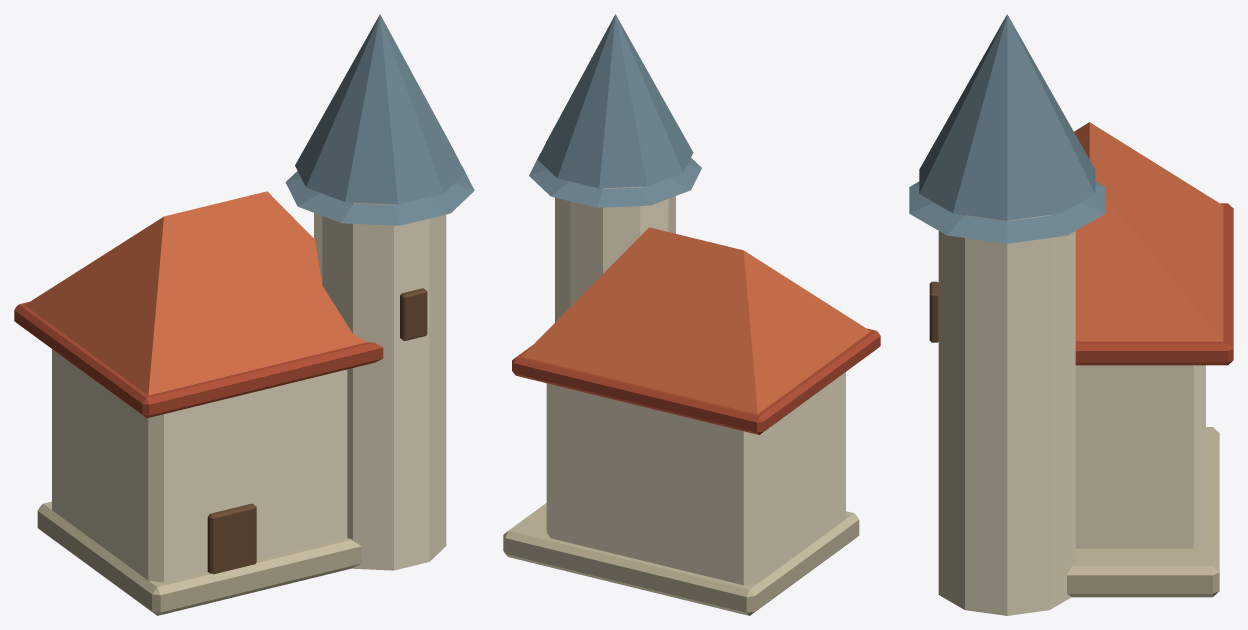
File: ns-house-3b.glb
3 views of the same model, side by side, from view 1: azimuth 30°, elevation 25°; view 2: azimuth 150°, elevation 25°; view 3: azimuth 270°, elevation 25° (orthographic). The views are drawn at different scales.
Parts seen in each view (by area): view 1: Cube; view 2: Cube; view 3: Cube.
Boxes of the visible parts, x1=… form: Cube: x1=14, y1=14, x2=474, y2=615; Cube: x1=503, y1=14, x2=880, y2=615; Cube: x1=909, y1=14, x2=1233, y2=615.
Bounding box in the file's own units: 0.63 × 0.92 × 0.4727.
